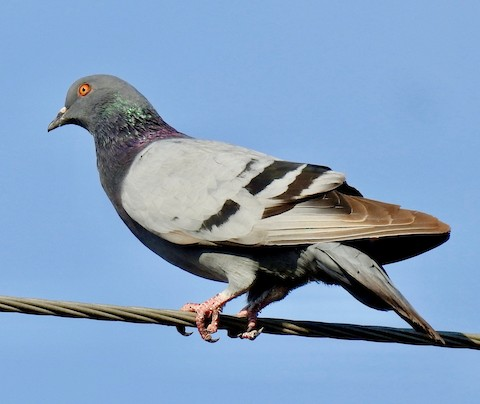pigeon: (44, 70, 453, 348)
